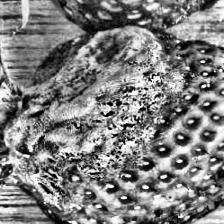Gray Mold: (0, 26, 224, 224), (143, 0, 224, 30)
